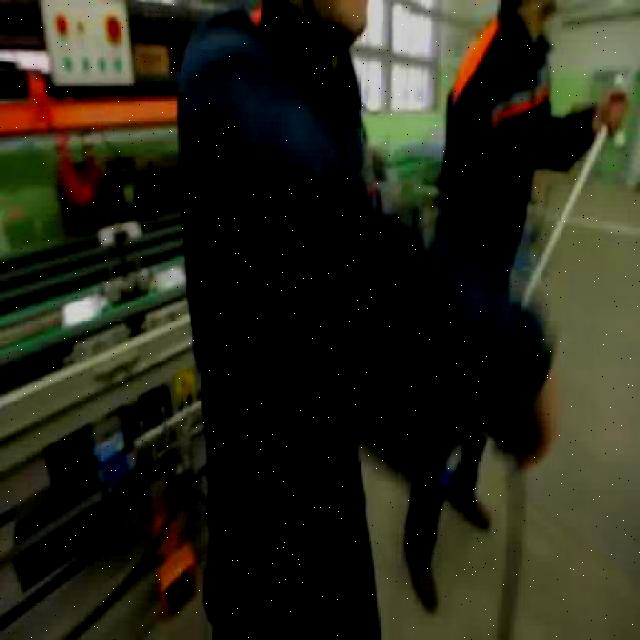Mask: (162, 0, 555, 638), (400, 1, 596, 572)
